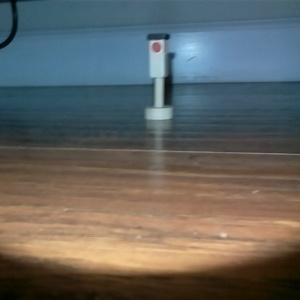traffic light red: (141, 30, 175, 120)
